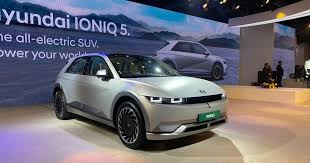Honda Ioniq: (51, 51, 232, 151)
